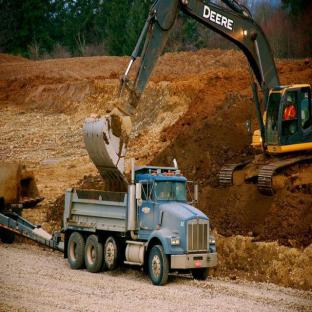ExcavationMachinery: (58, 0, 312, 188)
Vehicle: (65, 183, 223, 284)
